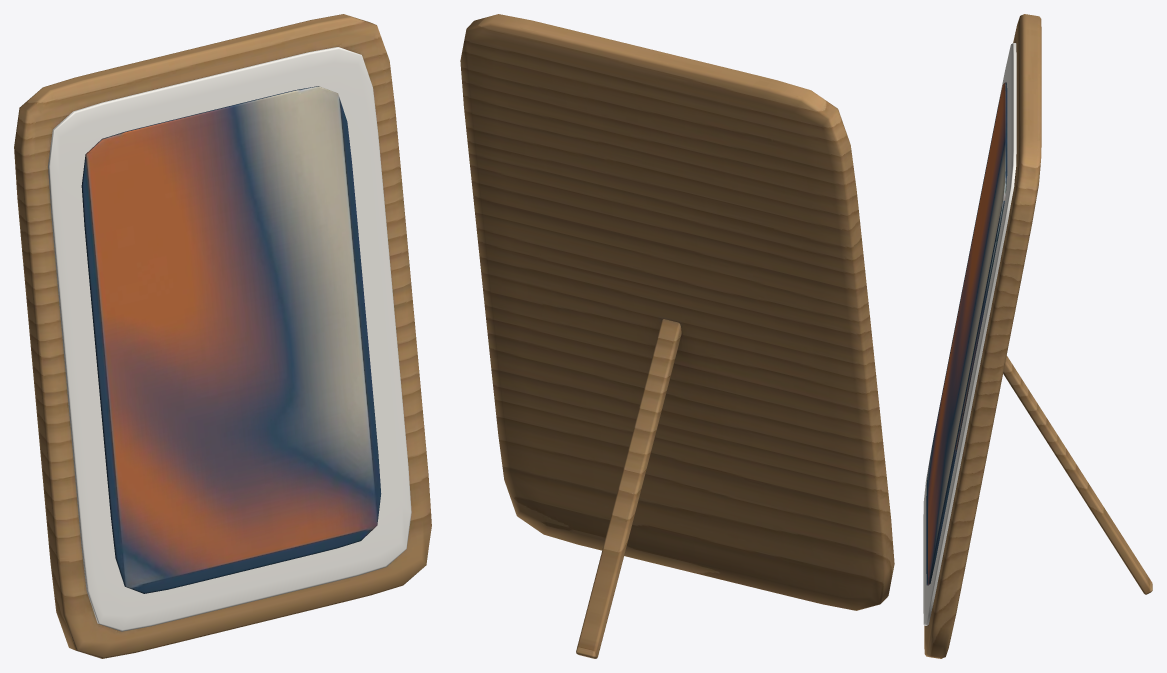
The model's file is oak-abstract.glb.
3 renders of one model, left to right at view 1: azimuth 30°, elevation 25°; view 2: azimuth 150°, elevation 25°; view 3: azimuth 270°, elevation 25°, orthographic. The views are drawn at different scales.
Parts seen in each view (by area): view 1: artwork_0, mat_board, wood_x; view 2: wood_x; view 3: wood_x, artwork_0, mat_board.
Boxes of the visible parts, box(x1,y1,x2,y2) form: artwork_0: box(81, 86, 381, 593); mat_board: box(48, 47, 411, 631); wood_x: box(14, 14, 431, 658); wood_x: box(460, 14, 894, 658); wood_x: box(924, 14, 1152, 658); artwork_0: box(926, 82, 1007, 585); mat_board: box(923, 43, 1016, 625).
Bounding box in the file's own units: 0.5 × 0.6927 × 0.2823.
Materials: 3 (2 with a texture image).
